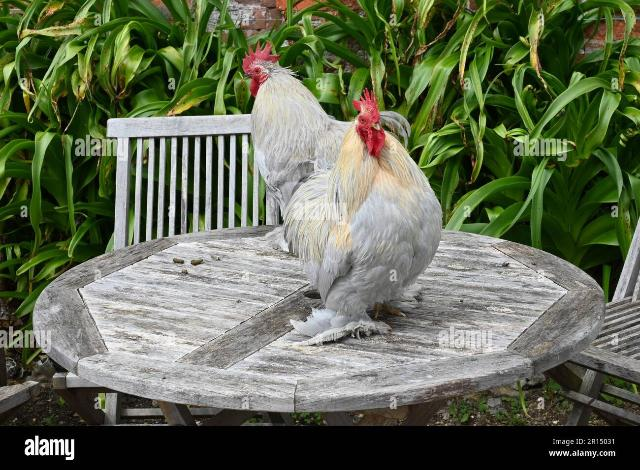Chicken: (284, 87, 445, 339), (241, 44, 413, 256)
